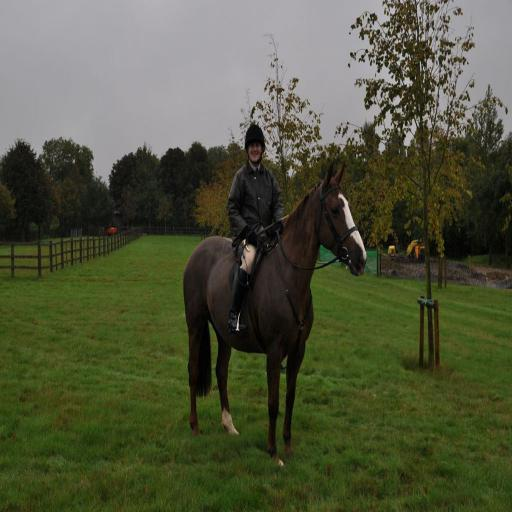horse: (184, 162, 366, 466)
